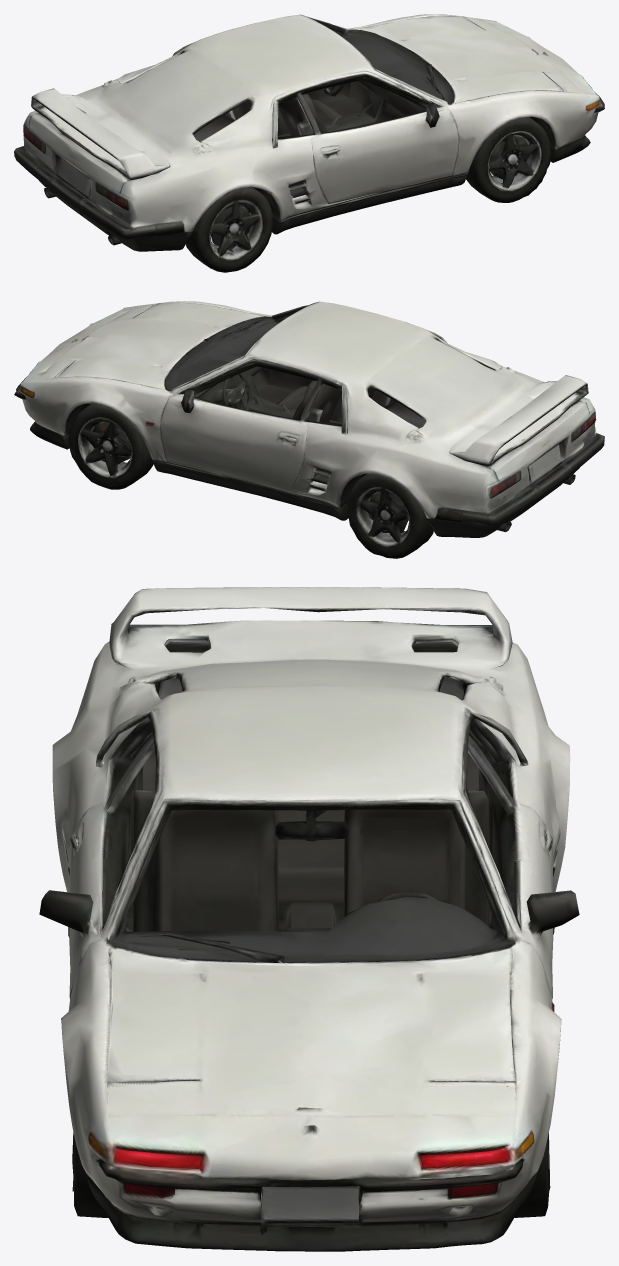
Rendered from car_white.glb.
The picture shows the model from 3 angles, top to bottom: view 1: azimuth 30°, elevation 25°; view 2: azimuth 150°, elevation 25°; view 3: azimuth 270°, elevation 25°; orthographic projection. The views are drawn at different scales.
Visible parts, largest first — view 1: tripo_node_c58f2234-897f-4b35-b875-1ec92485aeaf; view 2: tripo_node_c58f2234-897f-4b35-b875-1ec92485aeaf; view 3: tripo_node_c58f2234-897f-4b35-b875-1ec92485aeaf.
Boxes of the visible parts, x1,y1,x2,y2 form: tripo_node_c58f2234-897f-4b35-b875-1ec92485aeaf: (14, 14, 604, 272); tripo_node_c58f2234-897f-4b35-b875-1ec92485aeaf: (14, 301, 604, 558); tripo_node_c58f2234-897f-4b35-b875-1ec92485aeaf: (39, 587, 579, 1251).
Size of the model in its own units: 0.9797 by 0.2886 by 0.4576.
1 material, 1 textured.
